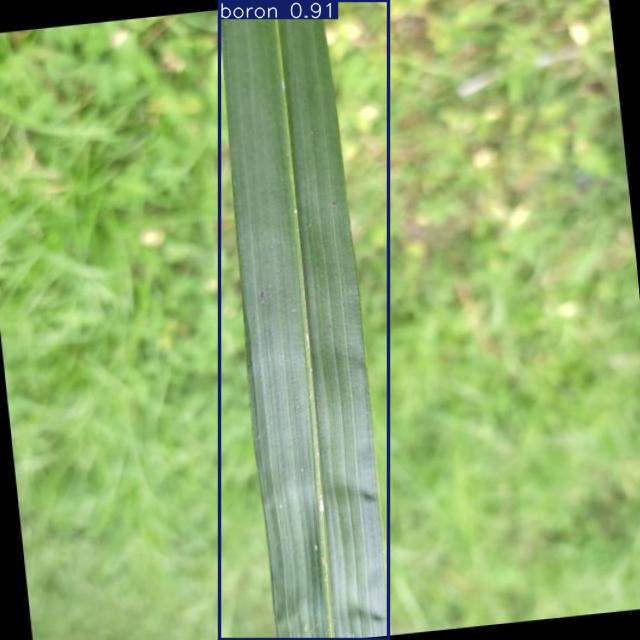nitrogen: (219, 1, 389, 640)
